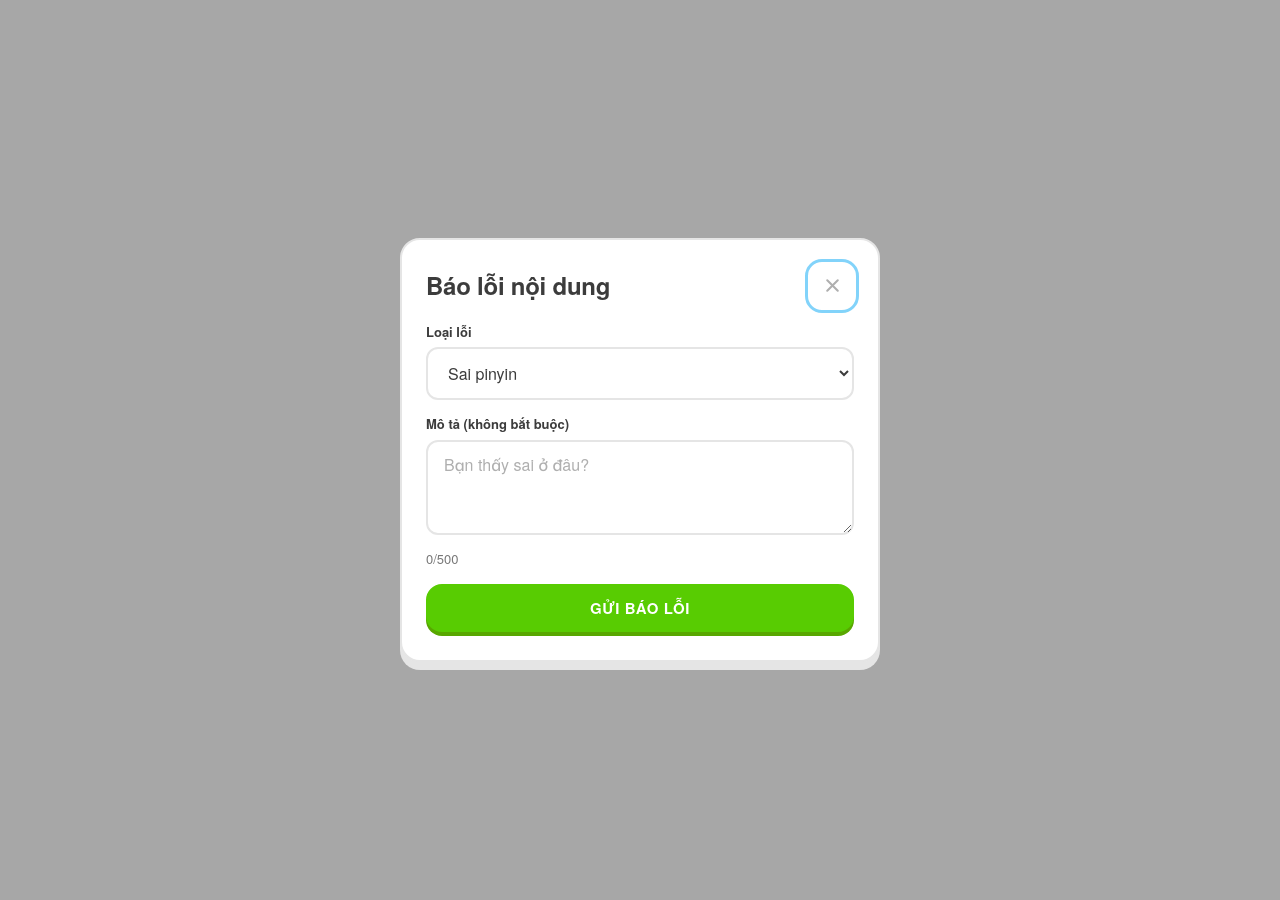
Test case: ReportSheet › gửi đúng nội dung tới /api/reports, báo cảm ơn và đóng
Select "Sai Hán Việt" in the dropdown labelled "Loại lỗi" at (640, 374), box 426,347 -> 854,400
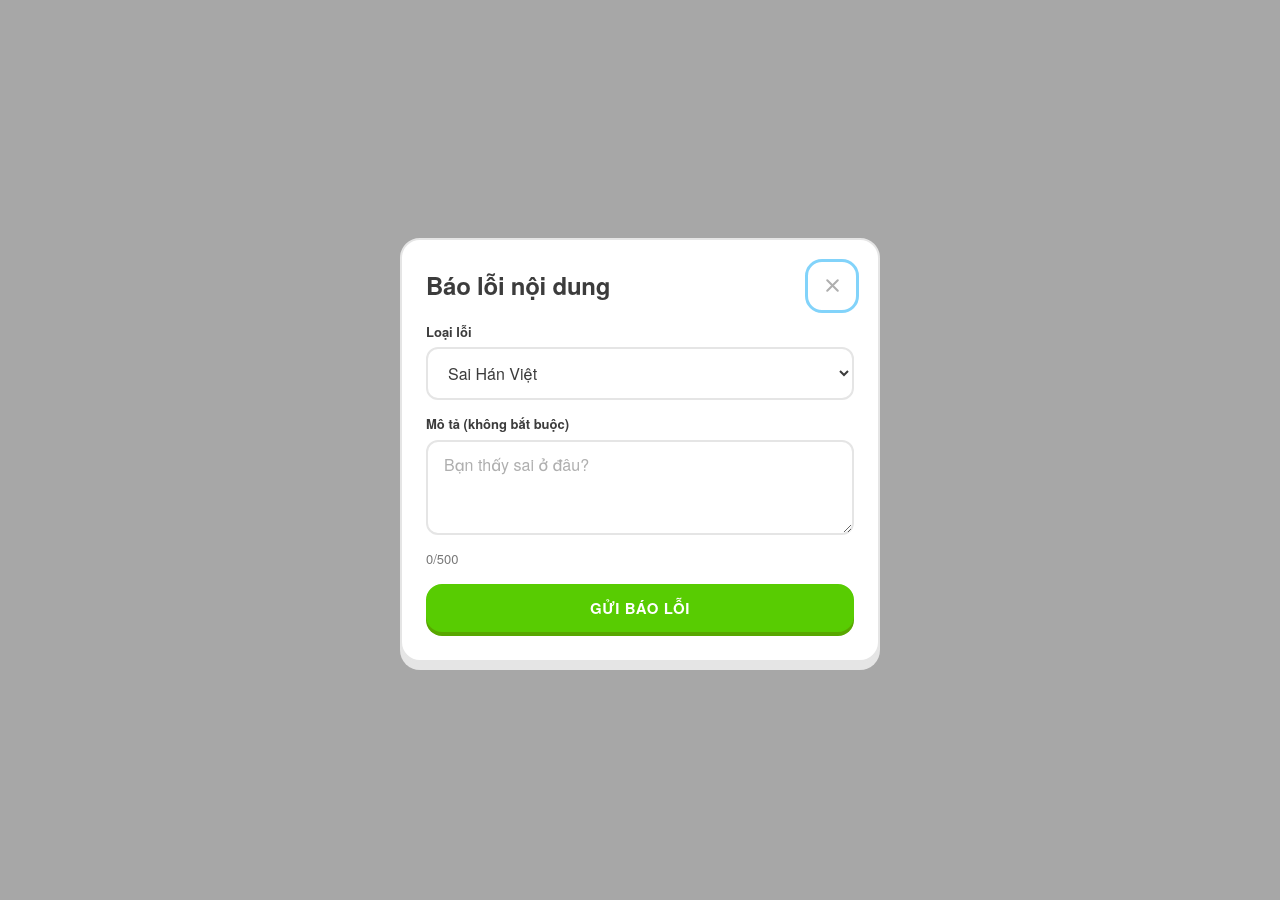
Type "phải là hảo" into the text box labelled "Mô tả (không bắt buộc)".
click(640, 488); type("phải là hảo")  # box 426,440 -> 854,535
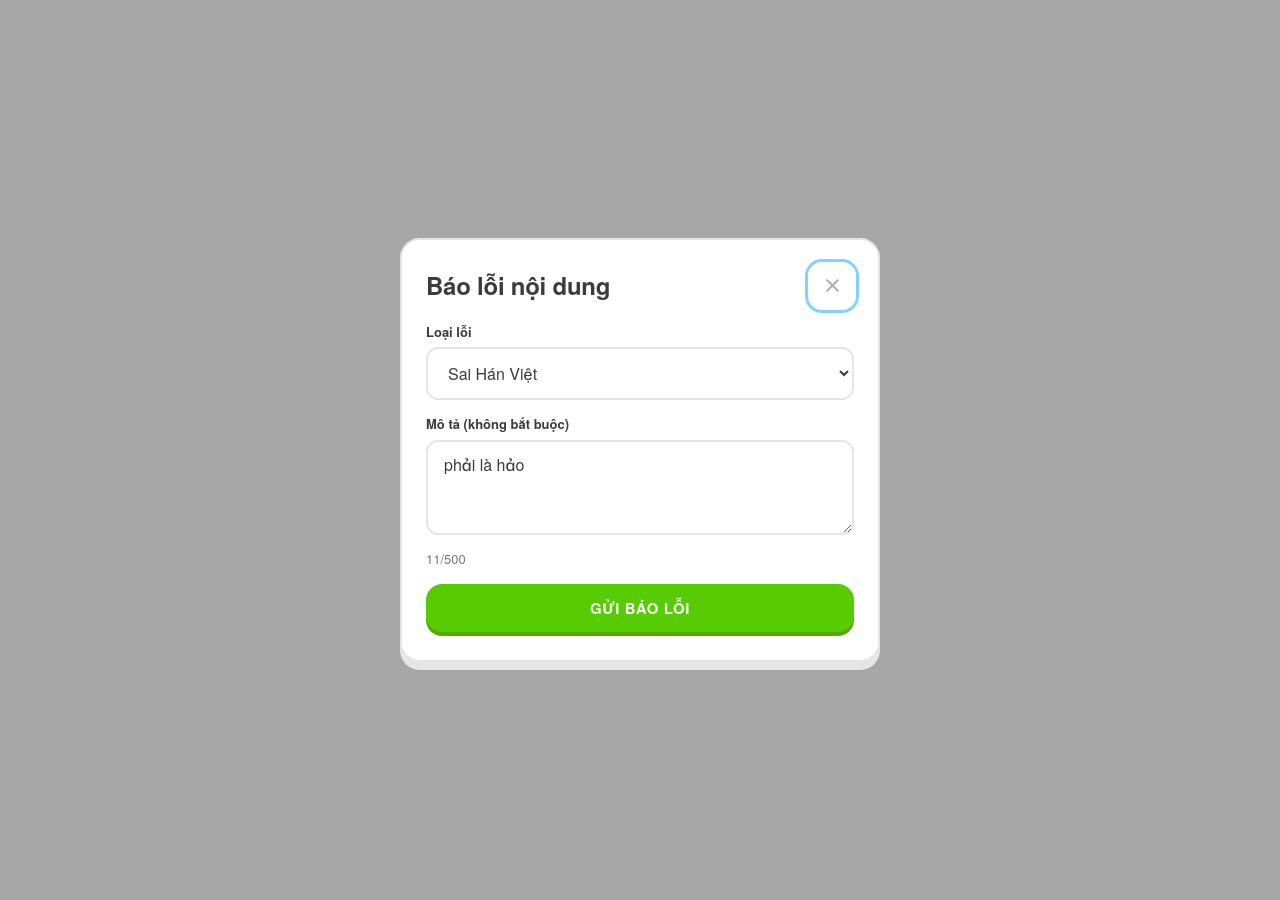
Click the button "Gửi báo lỗi".
click(640, 608)  # box 426,584 -> 854,632
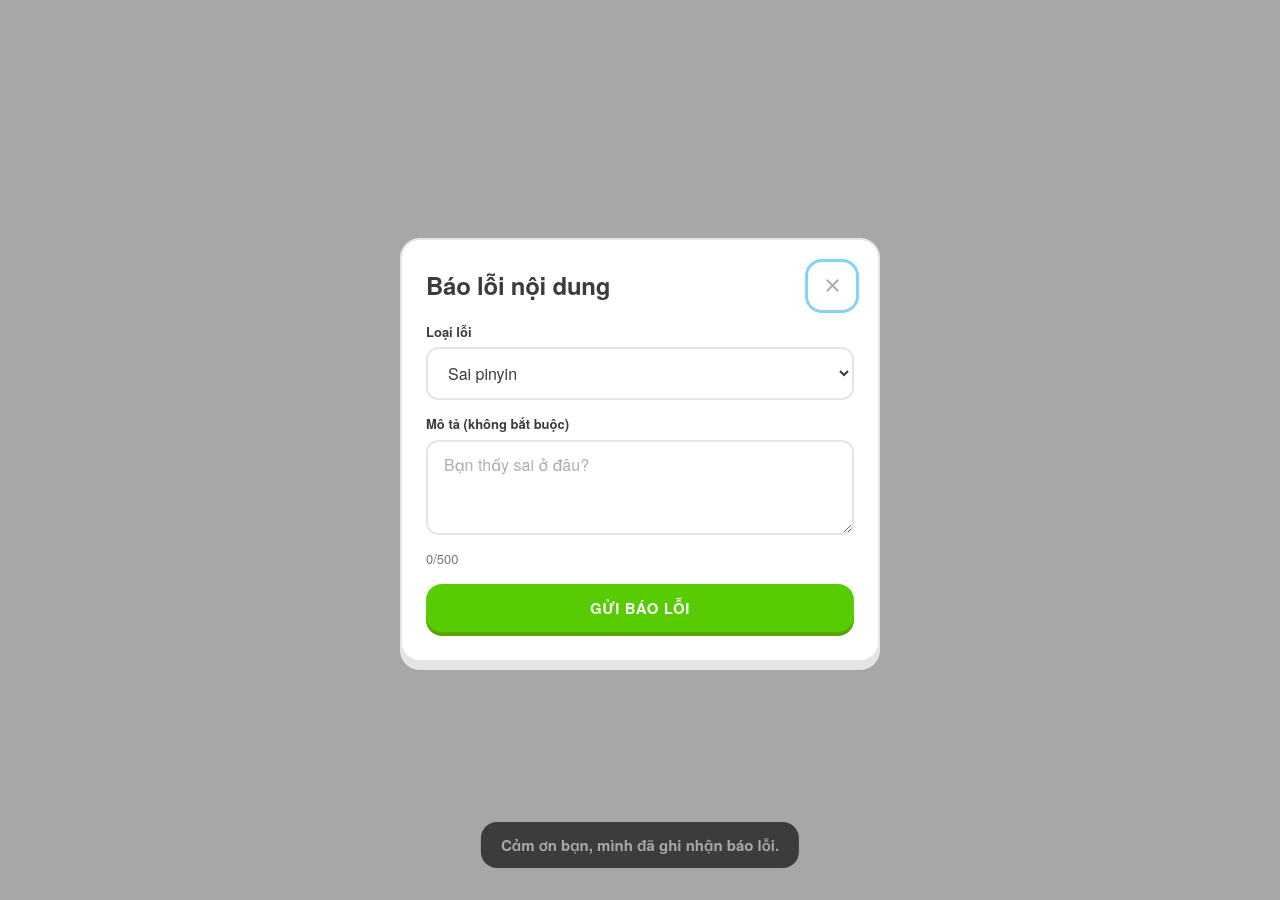
expect the text "Cảm ơn bạn, mình đã ghi nhận báo lỗi." is shown: met, box 481,822 -> 799,868
